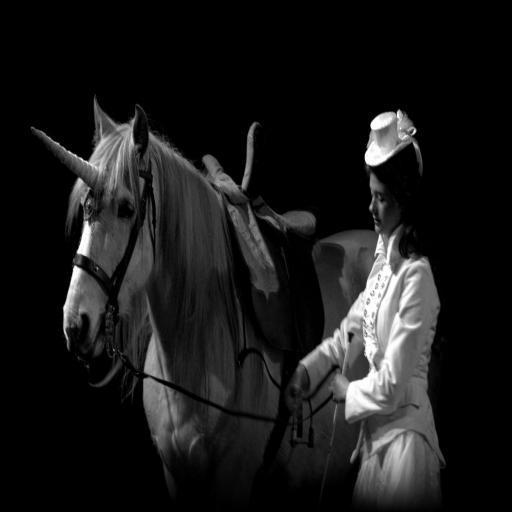horse: (30, 93, 371, 511)
